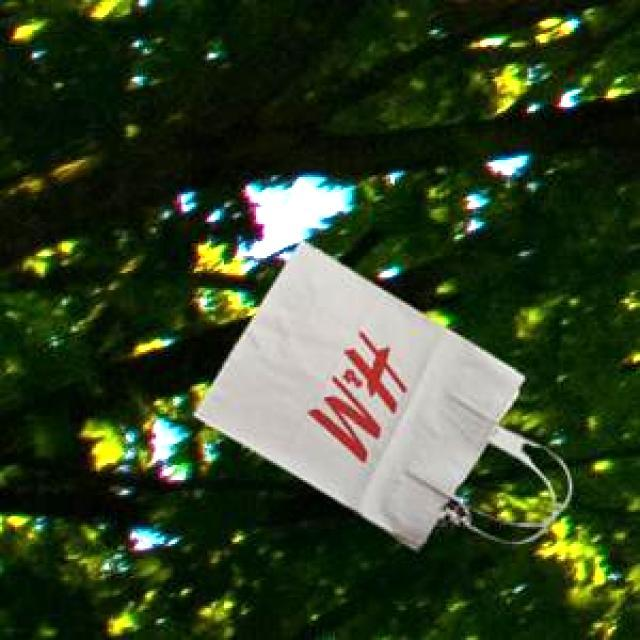Paper_Bag: (190, 238, 534, 548)
